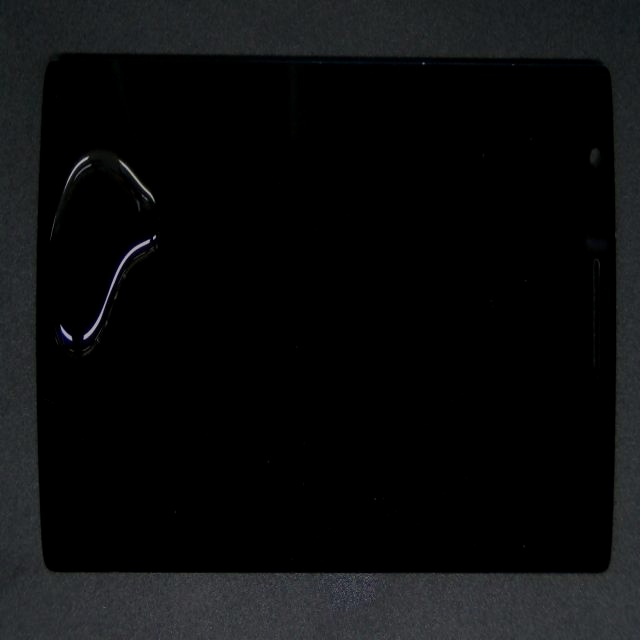oil: (42, 214, 201, 434)
